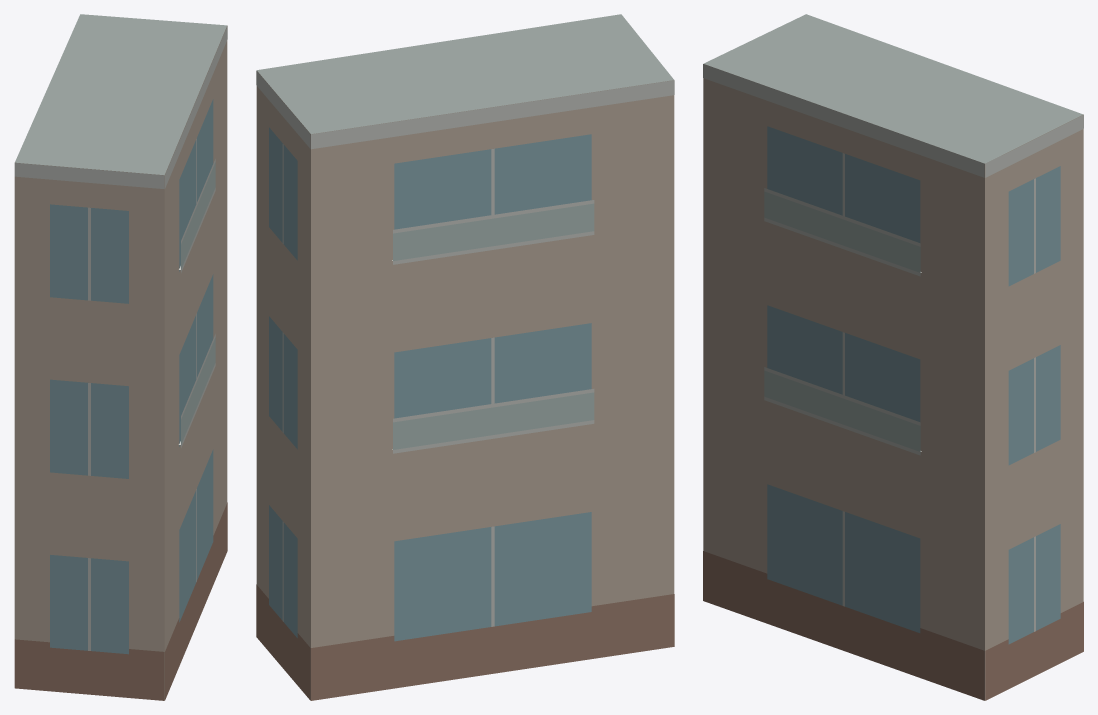
The model's file is survey-upis-32966199.glb.
3 renders of one model, left to right at view 1: azimuth 30°, elevation 25°; view 2: azimuth 150°, elevation 25°; view 3: azimuth 270°, elevation 25°, orthographic. The views are drawn at different scales.
Parts seen in each view (by area): view 1: survey-upis-32966199.tmp; view 2: survey-upis-32966199.tmp; view 3: survey-upis-32966199.tmp.
Boxes of the visible parts, x1,y1,x2,y2 form: survey-upis-32966199.tmp: [14, 14, 227, 700]; survey-upis-32966199.tmp: [256, 14, 674, 700]; survey-upis-32966199.tmp: [703, 14, 1083, 700].
Size of the model in its own units: 5.48 by 9.15 by 5.88.
